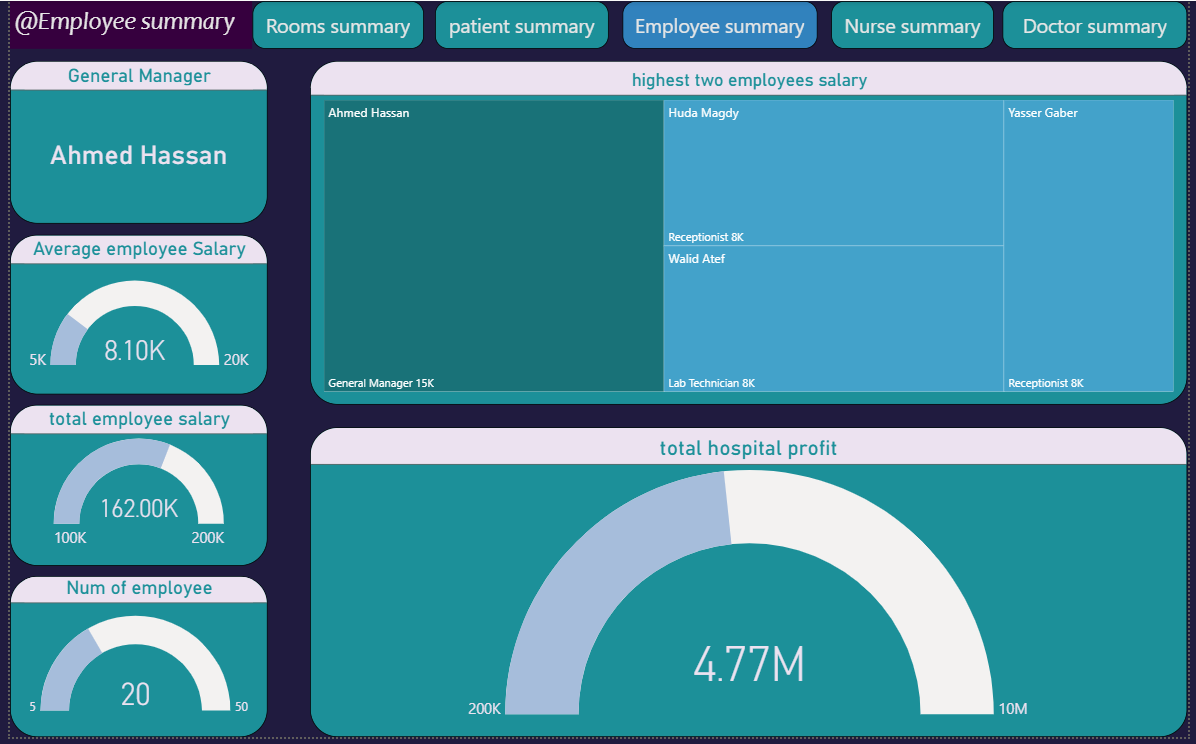

Layout of this report page (visuals, bound fields, positions):
{"tool":"powerbi","page":{"name":"Employee","canvas":[1280,800],"ordinal":3},"visuals":[{"type":"gauge","title":"Num of employee","fields":{"Y":["CountNonNull(Employee.Emp_ID)"]},"box":[0,625,279.9,175.3],"z":0},{"type":"gauge","title":"total employee salary ","fields":{"Y":["Sum(Employee.Salary)"]},"box":[0,438.9,279.9,175.3],"z":1000},{"type":"gauge","title":"Average employee  Salary","fields":{"Y":["Avg(Employee.Salary)"]},"box":[0,254.1,279.9,173.9],"z":2000},{"type":"treemap","title":"highest two employees salary","fields":{"Group":["Employee.name"],"Values":["Sum(Employee.Salary)"],"Details":["Employee.Jop_Titile"]},"box":[326.1,65.2,953.8,373.6],"z":3000},{"type":"card","title":"General Manager","fields":{"Values":["Min(Employee.name)"]},"box":[0,65.2,279.9,176.6],"z":4000},{"type":"gauge","title":"total hospital profit","fields":{"Y":["Employee.total profit"]},"box":[326.1,463.3,953.8,337],"z":5000},{"type":"textbox","box":[0,0,263.6,51.6],"z":6000},{"type":"actionButton","box":[1078.8,0,201.1,51.6],"z":7000},{"type":"actionButton","box":[892.7,0,176.6,51.6],"z":8000},{"type":"actionButton","box":[462,0,188.9,51.6],"z":9000},{"type":"actionButton","box":[263.6,0,186.1,51.6],"z":10000},{"type":"actionButton","box":[665.8,0,212,51.6],"z":11000}]}

Visuals, with their boxes in screenshot pixels (x1, y1, x2, y2), scaled from the page's 1280x800 canvas onto the 1196x744 screenshot:
"Num of employee" gauge: 0:581:262:743
"total employee salary " gauge: 0:408:262:571
"Average employee  Salary" gauge: 0:236:262:398
"highest two employees salary" treemap: 305:61:1195:408
"General Manager" card: 0:61:262:225
"total hospital profit" gauge: 305:431:1195:743
textbox: 0:0:246:48
actionButton: 1008:0:1195:48
actionButton: 834:0:999:48
actionButton: 432:0:608:48
actionButton: 246:0:420:48
actionButton: 622:0:820:48
